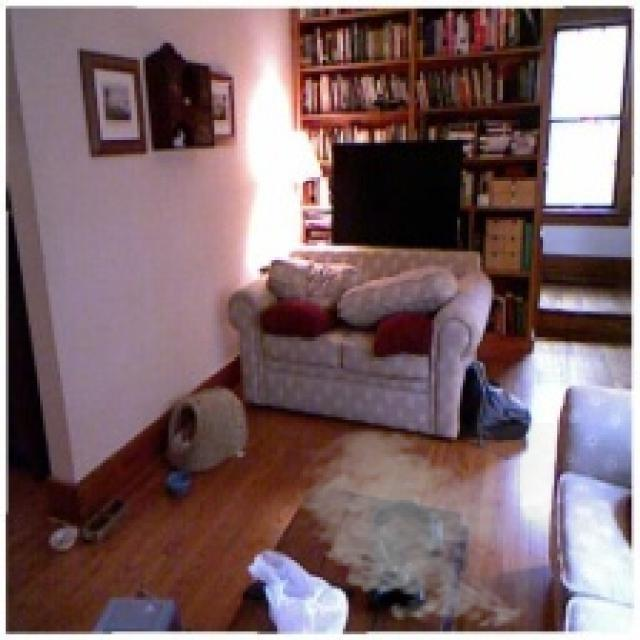Smoke: (288, 423, 554, 634)
